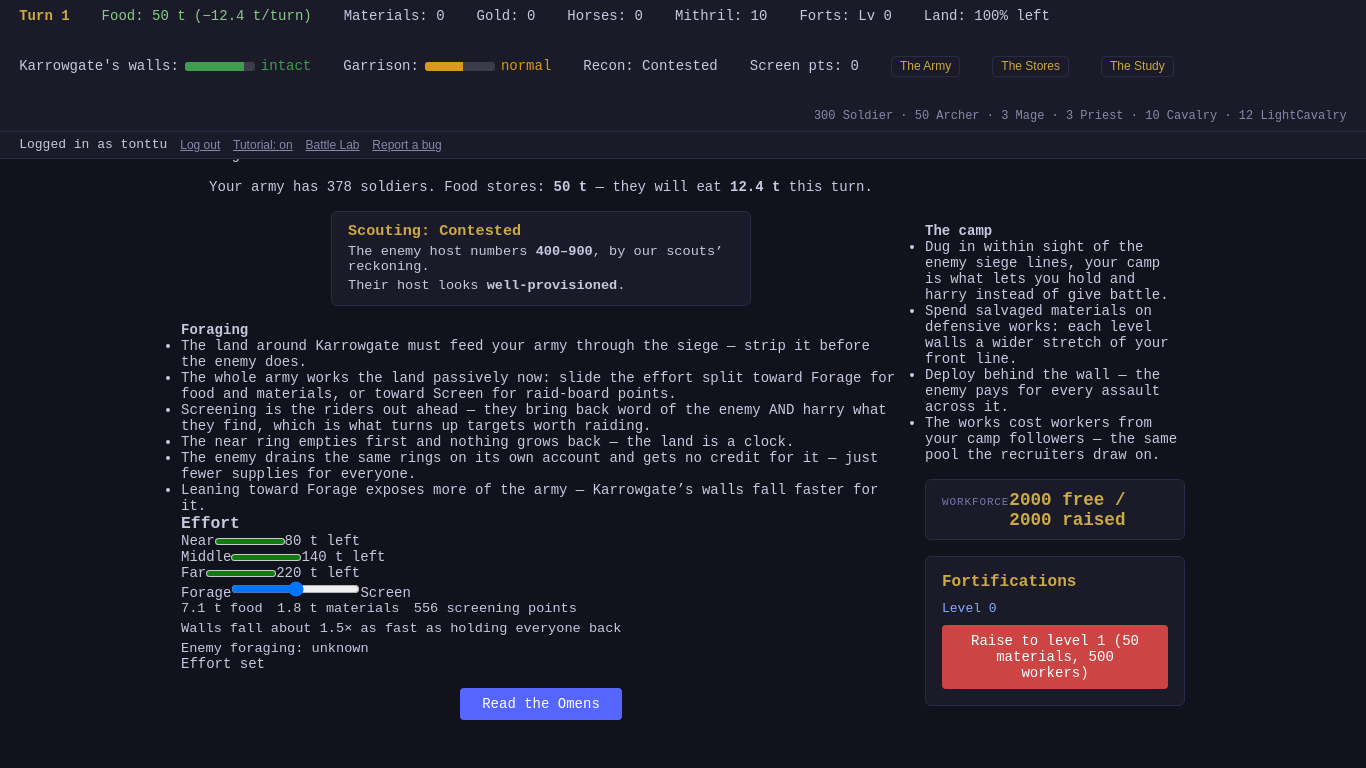
Test: campaign flow › consulting shows all three visions, each with the server's odds
(page scrolled)
Click the button with test id "to-omens" at {"x": 541, "y": 704}, box [460,688,622,720]
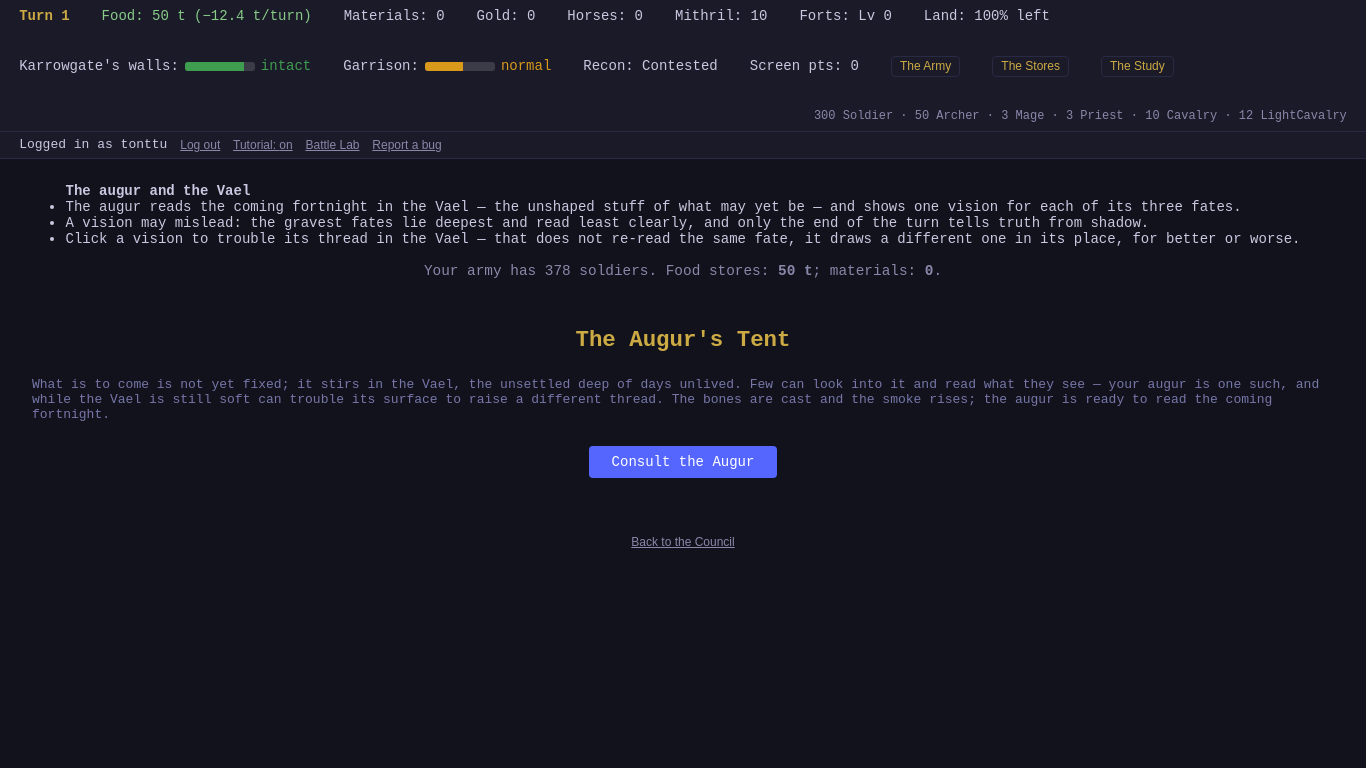
Click the button with test id "consult-augur" at {"x": 683, "y": 462}, box [589,446,777,478]
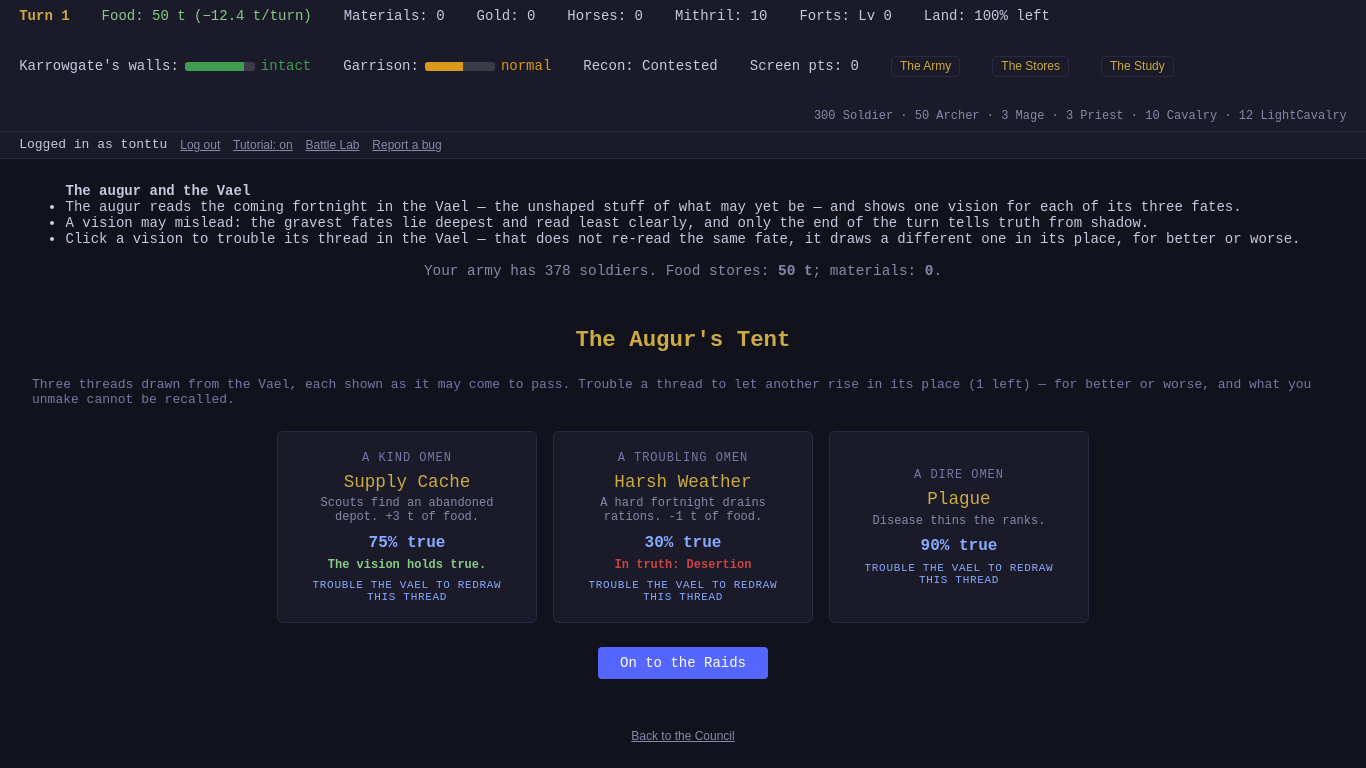
Check: the button with test id "augury-vision-0" shows "Supply Cache", box [277,431,537,623]
Check: the button with test id "augury-vision-0" shows "A kind omen", box [277,431,537,623]
Check: the button with test id "augury-vision-1" shows "Harsh Weather", box [553,431,813,623]
Click the button with test id "augury-continue" at {"x": 683, "y": 663}, box [598,647,768,679]
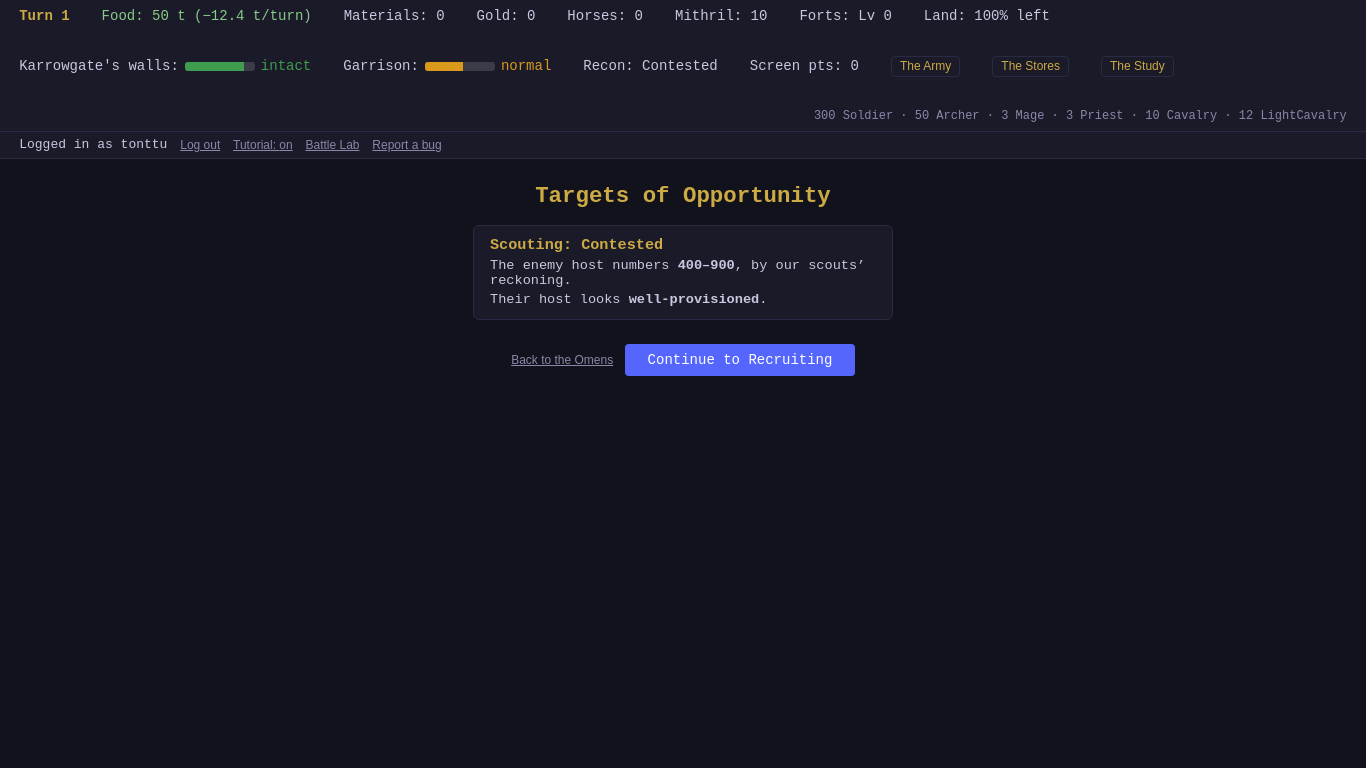
Click the button with test id "to-recruit" at {"x": 740, "y": 360}, box [625,344,855,376]
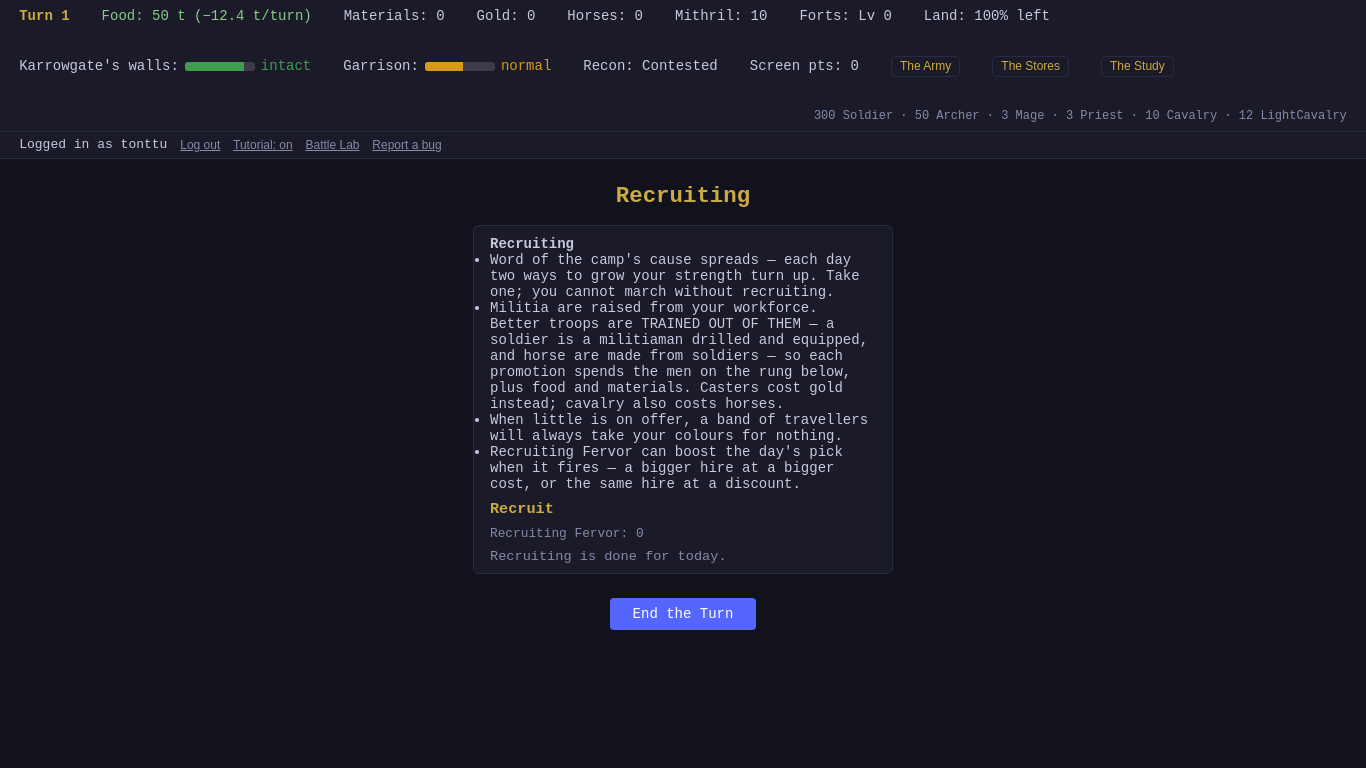
Check: the button with test id "to-deploy" is shown, box [610,598,756,630]
